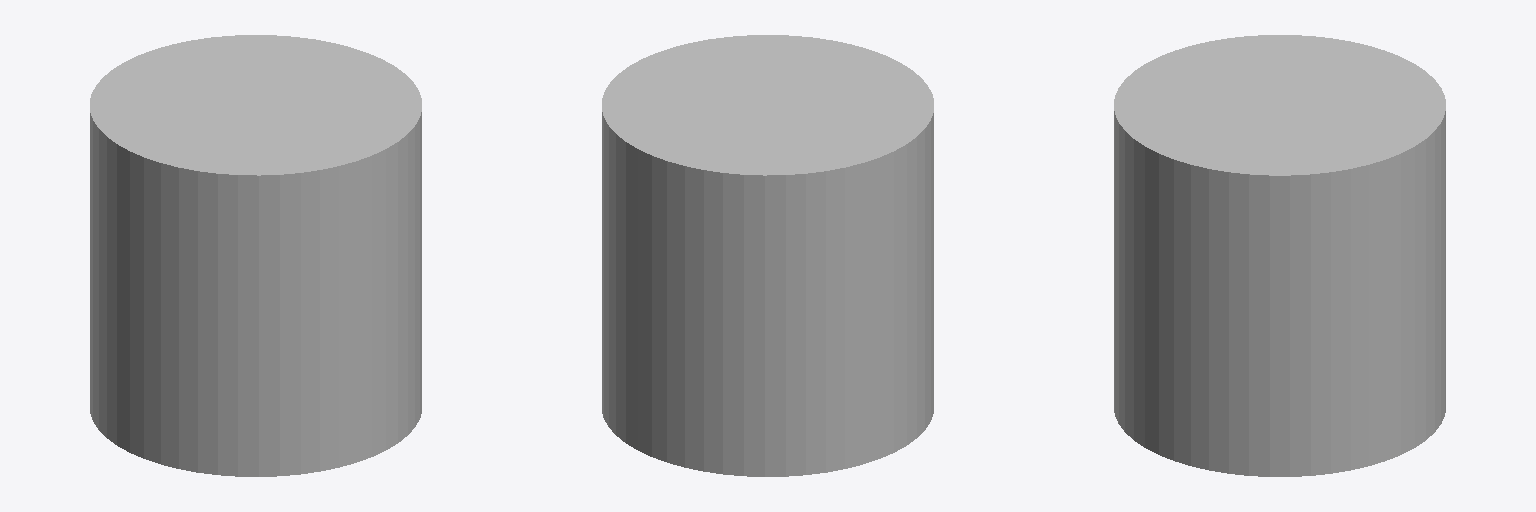
The model's file is hitBoxbatton.obj.
3 renders of one model, left to right at view 1: azimuth 30°, elevation 25°; view 2: azimuth 150°, elevation 25°; view 3: azimuth 270°, elevation 25°, orthographic.
Parts seen in each view (by area): view 1: baton_Cylinder; view 2: baton_Cylinder; view 3: baton_Cylinder.
Part boxes in pixels (left/top/right/bottom): baton_Cylinder: left=90, top=35, right=421, bottom=476; baton_Cylinder: left=602, top=35, right=933, bottom=476; baton_Cylinder: left=1114, top=35, right=1445, bottom=476.
Size of the model in its own units: 1 by 1 by 1.